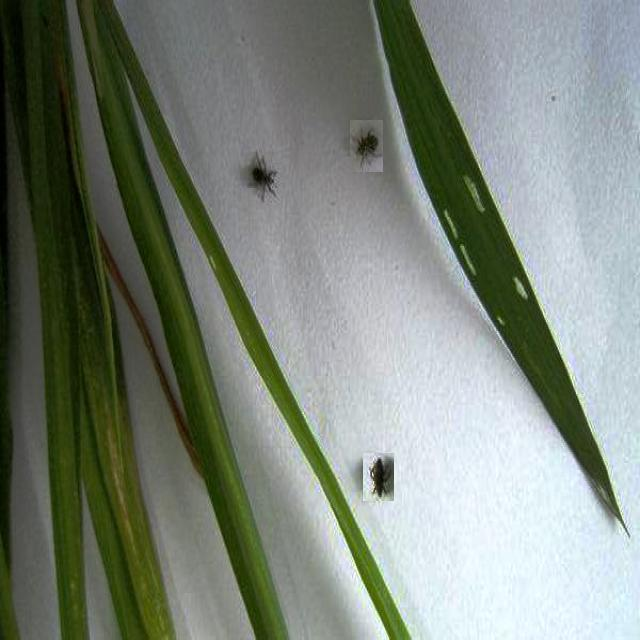rice-bug: (350, 120, 383, 172), (249, 152, 279, 206), (363, 453, 394, 501)
